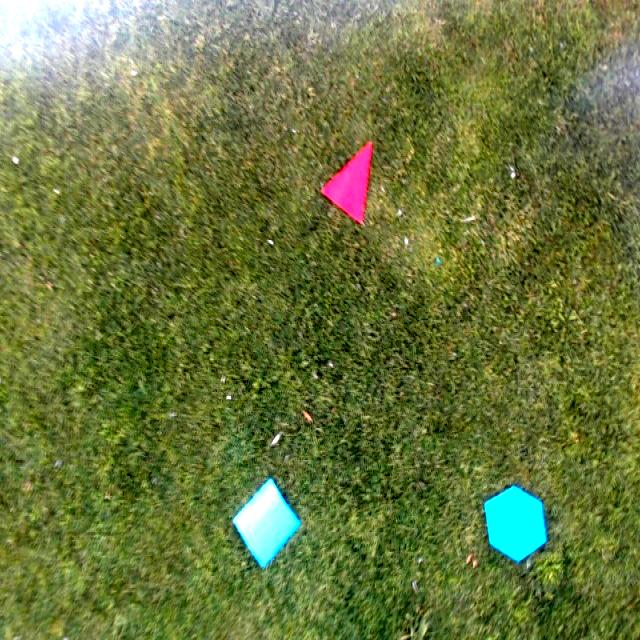blue_hexagon: (484, 484, 548, 562)
blue_square: (231, 479, 302, 568)
red_triangle: (317, 141, 373, 226)
